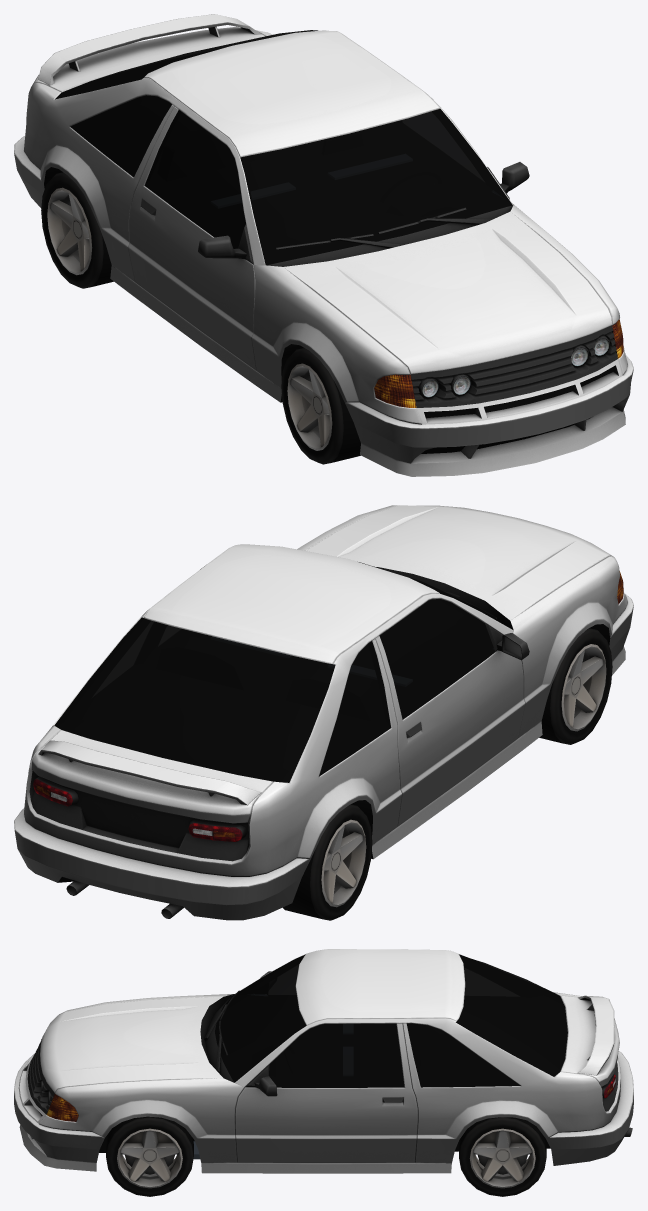
File: coupe.glb
The picture shows the model from 3 angles, top to bottom: view 1: azimuth 30°, elevation 25°; view 2: azimuth 150°, elevation 25°; view 3: azimuth 270°, elevation 25°; orthographic projection. The views are drawn at different scales.
Parts seen in each view (by area): view 1: Coupe Body_Body_0, Door skin and glass (×4), Coupe Body_Glass_0, TyreRim (×2), Lamp head, Seat back; view 2: Coupe Body_Body_0, Coupe Body_Glass_0, Door skin and glass (×2), TyreRim (×2), Lamp brake; view 3: Coupe Body_Body_0, Door skin and glass (×4), Coupe Body_Glass_0, TyreRim (×2), Lamp head.
Boxes of the visible parts, x1,y1,x2,y2 form: Coupe Body_Body_0: (14,14,633,476); Door skin and glass (×4): (140,103,550,386); Coupe Body_Glass_0: (55,30,512,265); TyreRim (×2): (41,172,360,464); Lamp head: (374,319,623,407); Seat back: (328,154,412,179); Coupe Body_Body_0: (14,505,633,920); Coupe Body_Glass_0: (54,562,507,782); Door skin and glass (×2): (374,593,564,817); TyreRim (×2): (282,628,612,920); Lamp brake: (33,779,242,841); Coupe Body_Body_0: (14,949,633,1173); Door skin and glass (×4): (181,955,404,1162); Coupe Body_Glass_0: (215,954,567,1087); TyreRim (×2): (106,1116,546,1196); Lamp head: (46,1094,78,1121).
Bounding box in the file's own units: 2.04 × 1.39 × 4.6.
Materials: 6 (4 with a texture image).
